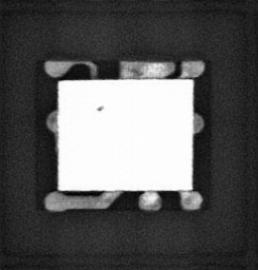DIE_INK: (96, 102, 104, 112)
